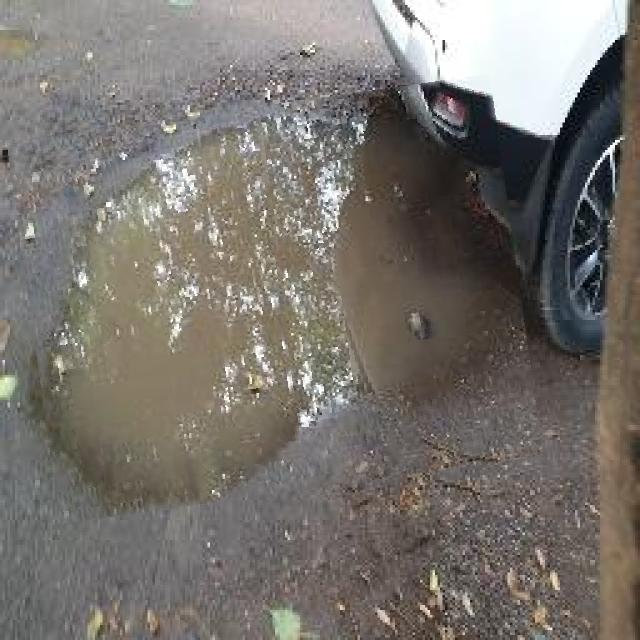puddle: (20, 91, 532, 509)
